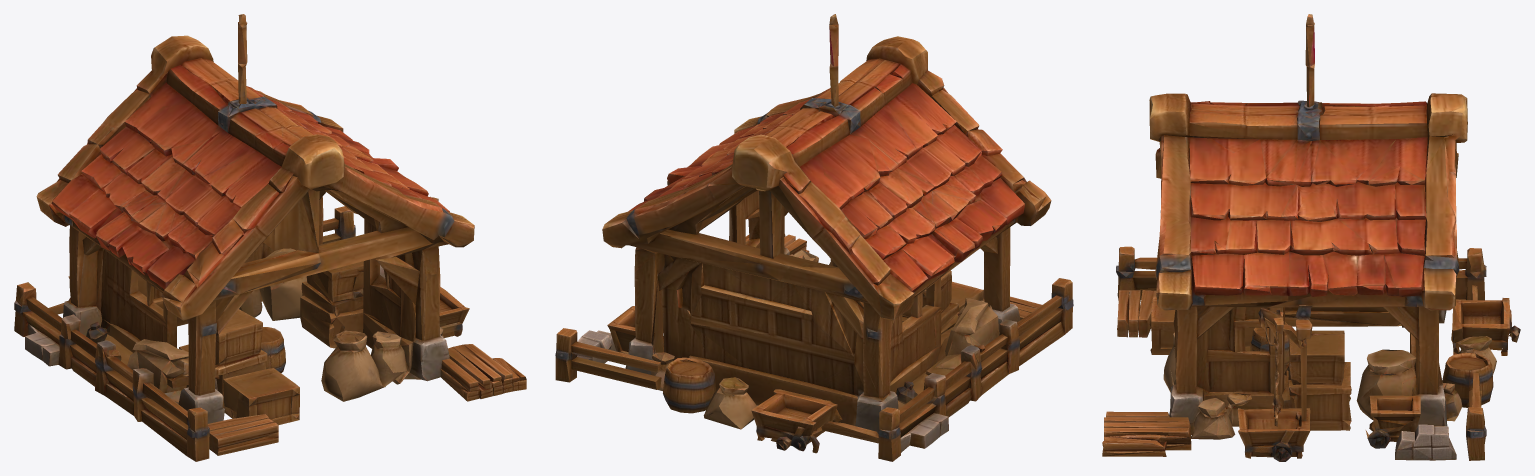
The model's file is storehouse.glb.
3 renders of one model, left to right at view 1: azimuth 30°, elevation 25°; view 2: azimuth 150°, elevation 25°; view 3: azimuth 270°, elevation 25°, orthographic.
Parts seen in each view (by area): view 1: Mesh_0; view 2: Mesh_0; view 3: Mesh_0.
Boxes of the visible parts, <box> form: Mesh_0: <box>14,14,526,461</box>; Mesh_0: <box>555,14,1073,461</box>; Mesh_0: <box>1102,14,1520,461</box>.
Size of the model in its own units: 1.86 by 1.76 by 1.89.
Materials: 1 (1 with a texture image).
